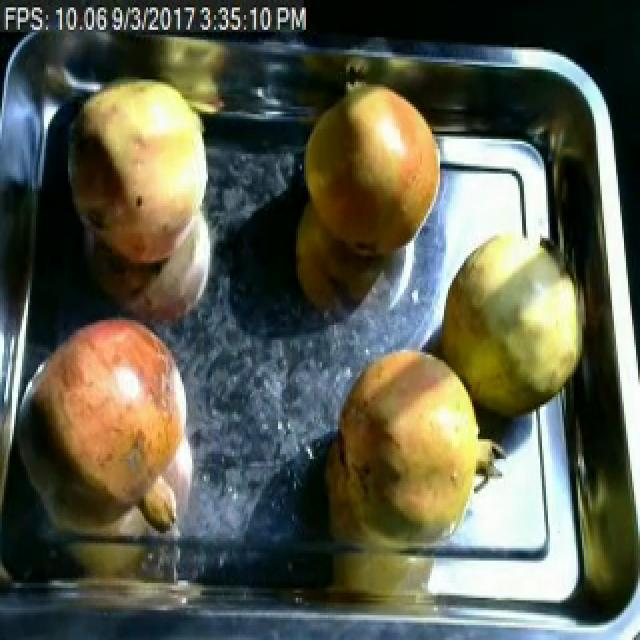fruit: (28, 302, 196, 540), (328, 338, 508, 544), (58, 67, 220, 278), (430, 216, 592, 427), (296, 64, 448, 270)
